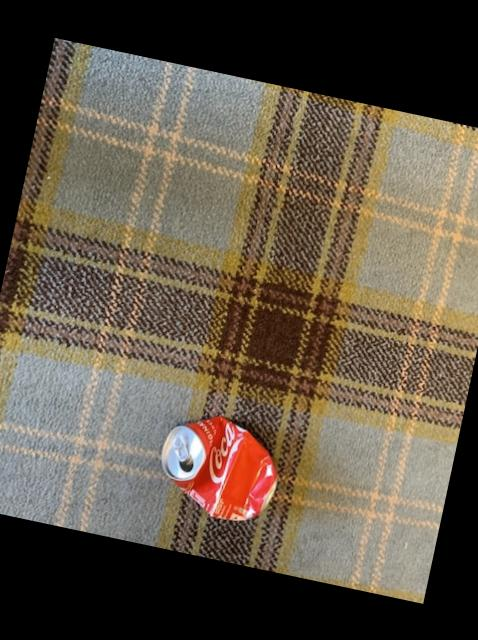metal: (160, 416, 276, 520)
